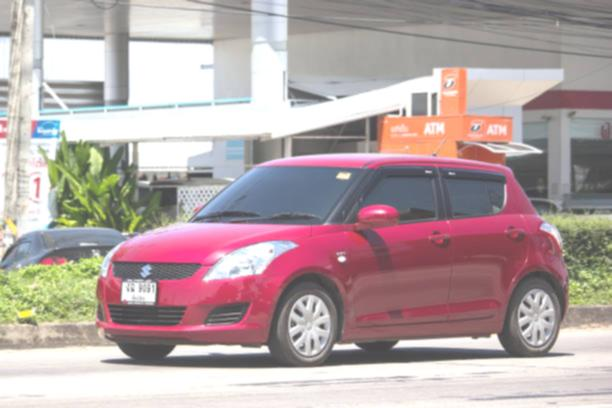suzuki: (134, 262, 158, 283)
